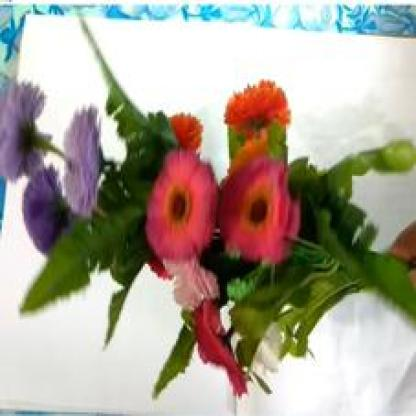flower: (27, 43, 372, 407)
